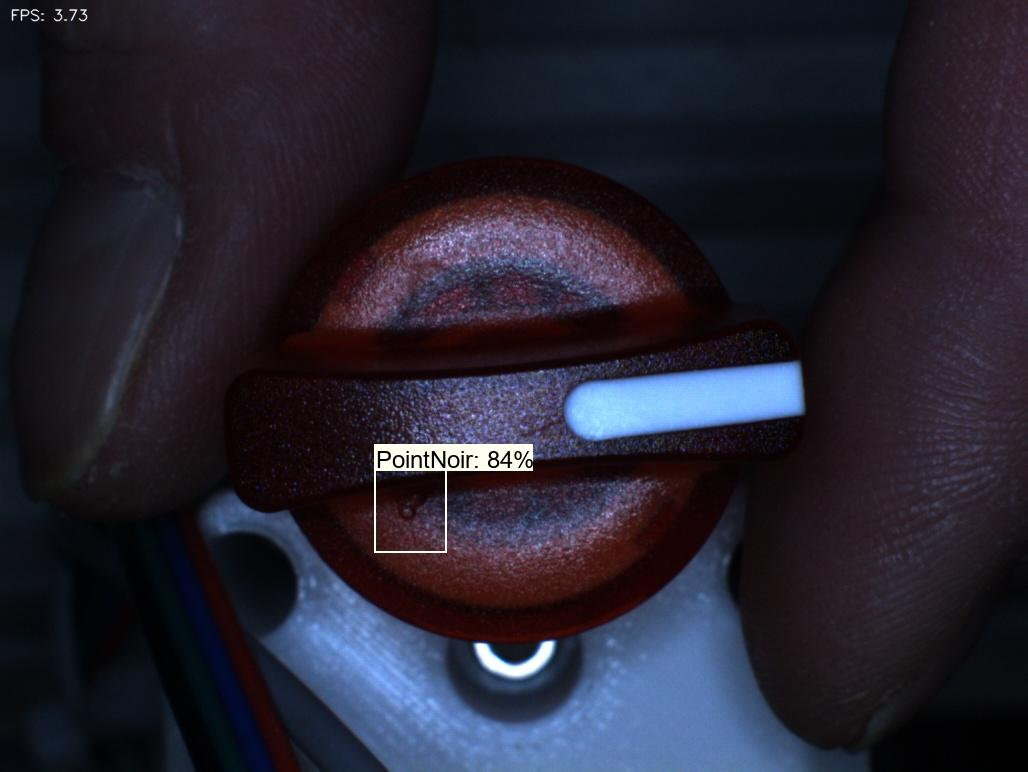Choc: (381, 469, 444, 540)
